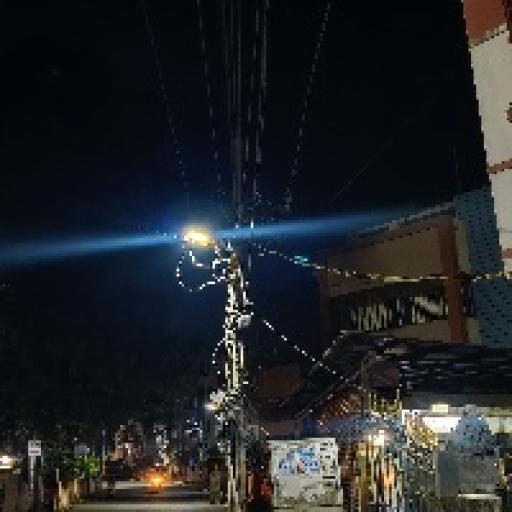Working: (174, 223, 216, 252)
